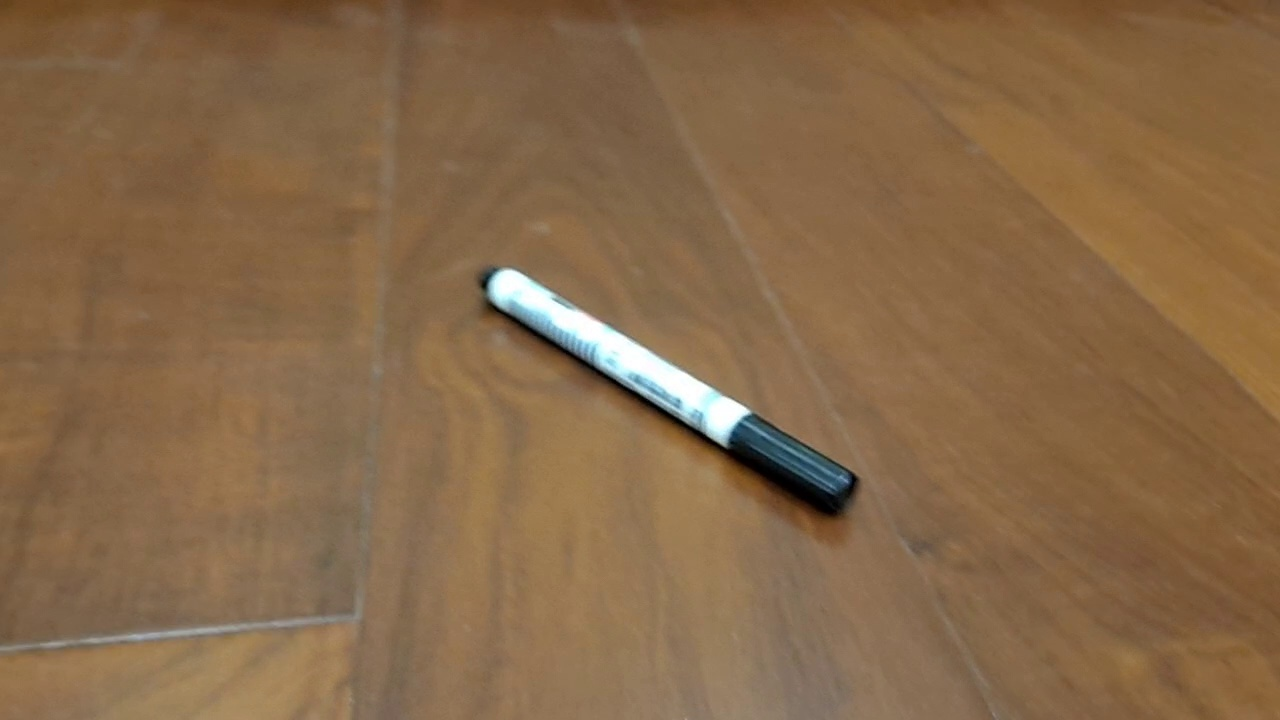pen: (474, 262, 862, 520)
